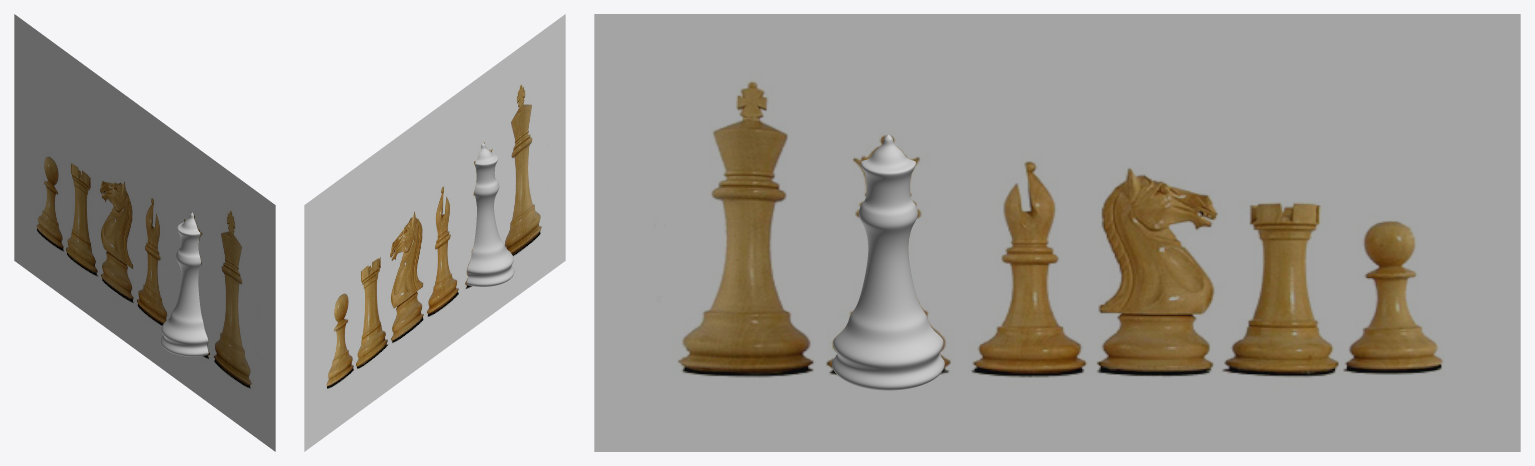
The model's file is queen.obj.
The picture shows the model from 3 angles, left to right: view 1: azimuth 30°, elevation 25°; view 2: azimuth 150°, elevation 25°; view 3: azimuth 270°, elevation 25°; orthographic projection. The views are drawn at different scales.
Visible parts, largest first — view 1: staunton-chess-set-1, Queen_Plane.002; view 2: staunton-chess-set-1, Queen_Plane.002; view 3: staunton-chess-set-1, Queen_Plane.002.
Boxes of the visible parts, <box> form: staunton-chess-set-1: <box>14,14,275,451</box>; Queen_Plane.002: <box>160,212,208,356</box>; staunton-chess-set-1: <box>304,14,565,451</box>; Queen_Plane.002: <box>466,143,514,286</box>; staunton-chess-set-1: <box>594,14,1520,451</box>; Queen_Plane.002: <box>832,134,944,390</box>.
Size of the model in its own units: 0.2339 by 1 by 1.92.
Materials: 2 (1 with a texture image).
